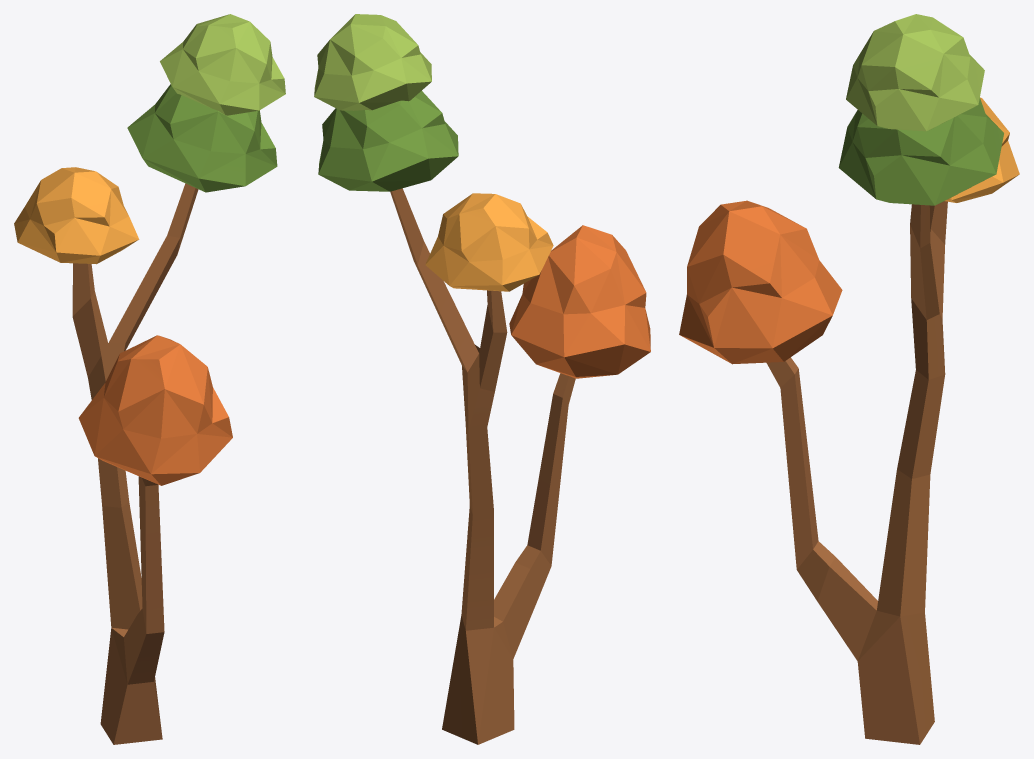
The model's file is Tree_1.gltf.
3 views of the same model, side by side, from view 1: azimuth 30°, elevation 25°; view 2: azimuth 150°, elevation 25°; view 3: azimuth 270°, elevation 25° (orthographic). The views are drawn at different scales.
Visible parts, largest first — view 1: Tree_1; view 2: Tree_1; view 3: Tree_1.
Part boxes in pixels (x1=…): Tree_1: x1=14, y1=14, x2=285, y2=744; Tree_1: x1=314, y1=14, x2=650, y2=744; Tree_1: x1=679, y1=14, x2=1019, y2=744.
Bounding box in the file's own units: 1 × 2.57 × 1.04.
1 material, 1 textured.
